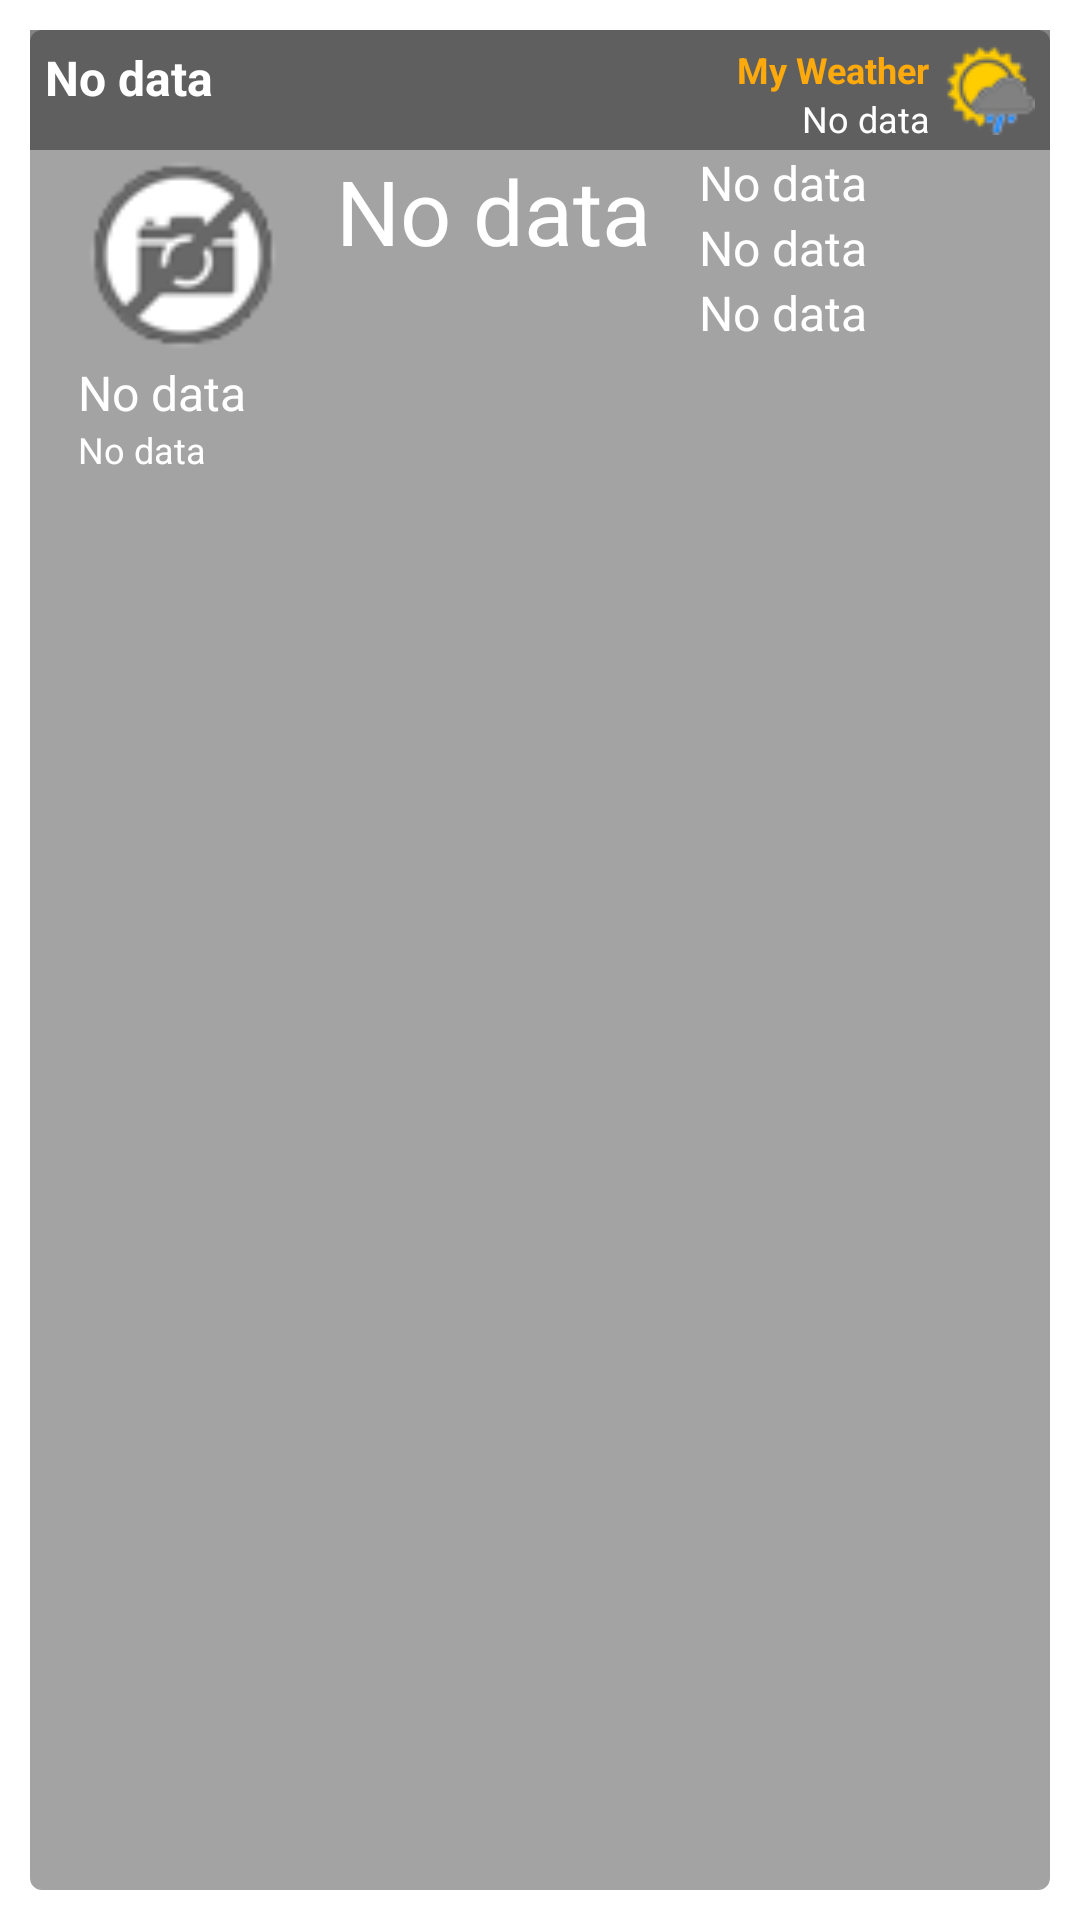

Named icons in this screenshot (1080px x 1920px) and their bounding boxes, bbox=(x1, y1, x2, y2):
wether: bbox=(947, 47, 1035, 135)
